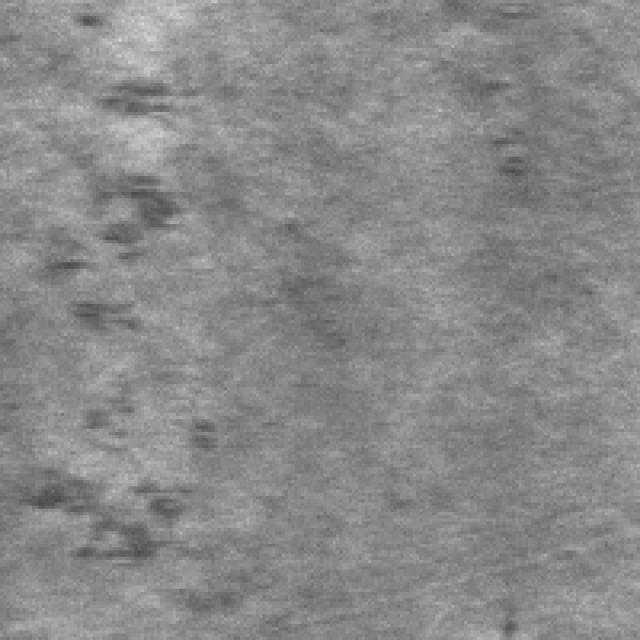rolled-in_scale: (16, 67, 208, 563), (461, 35, 557, 189)
